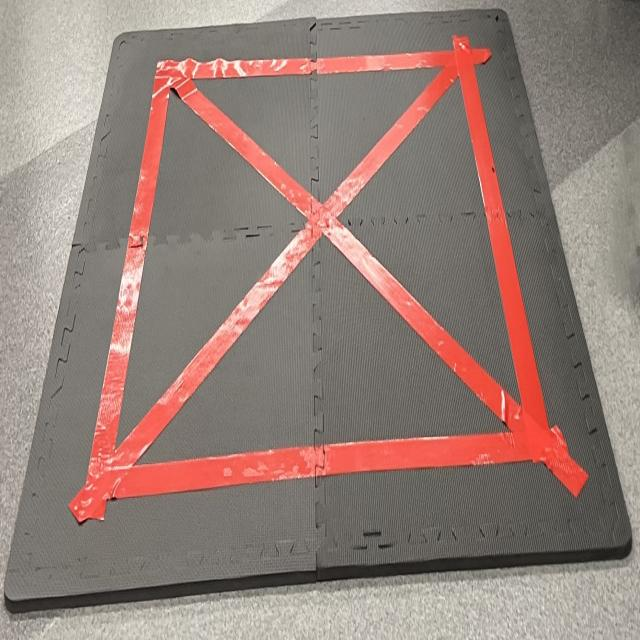landingPads: (5, 6, 631, 606)
